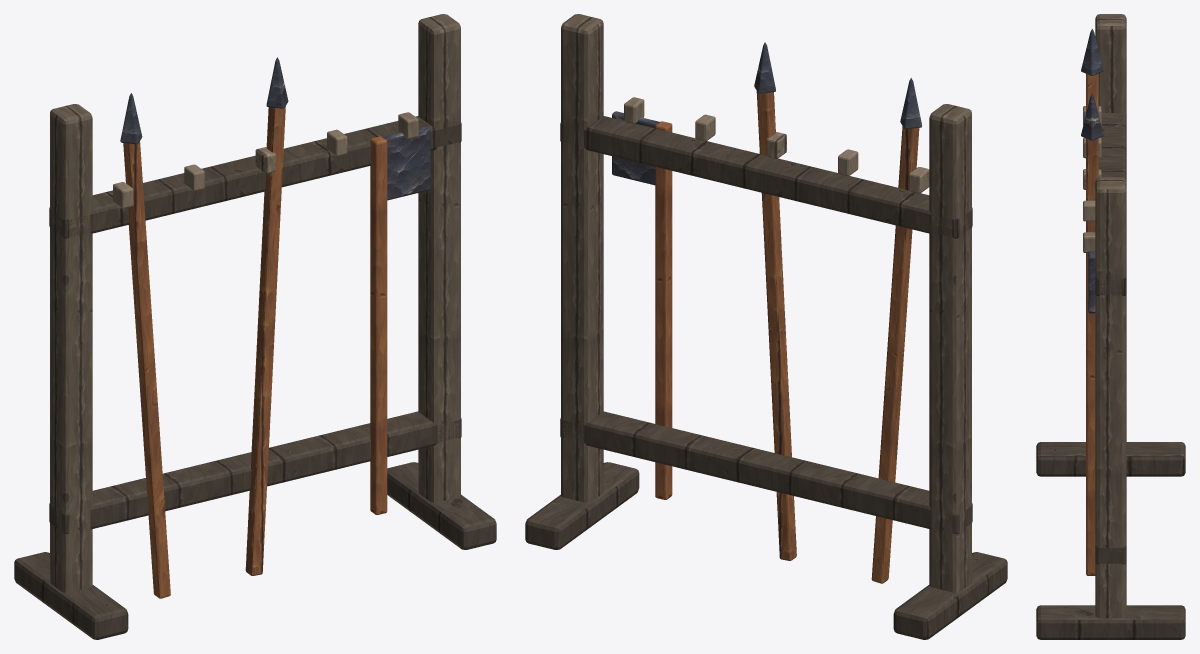
File: weapon_rack__plank_mushroom.glb
3 views of the same model, side by side, from view 1: azimuth 30°, elevation 25°; view 2: azimuth 150°, elevation 25°; view 3: azimuth 270°, elevation 25° (orthographic). The views are drawn at different scales.
Visible parts, largest first — view 1: model; view 2: model; view 3: model.
Part boxes in pixels (bbox=[...]): model: bbox=[14, 14, 496, 639]; model: bbox=[525, 14, 1007, 639]; model: bbox=[1036, 14, 1185, 639].
Size of the model in its own units: 1.36 by 1.64 by 0.48.
6 materials, 6 textured.
